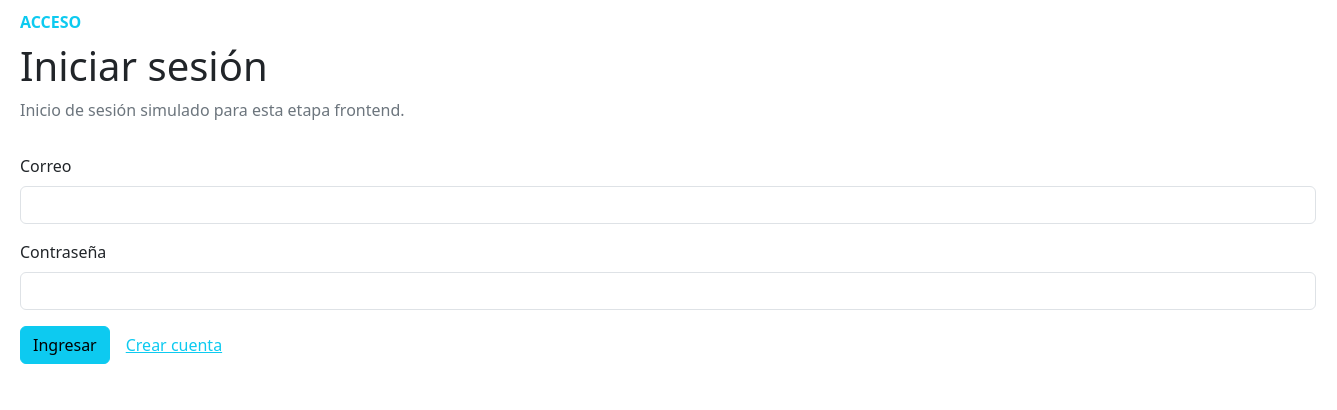
Test: inicio de sesión › rechaza un correo con formato inválido
Type "correo-invalido" into the field labelled "Correo" at (668, 205), box [20,186,1316,224]
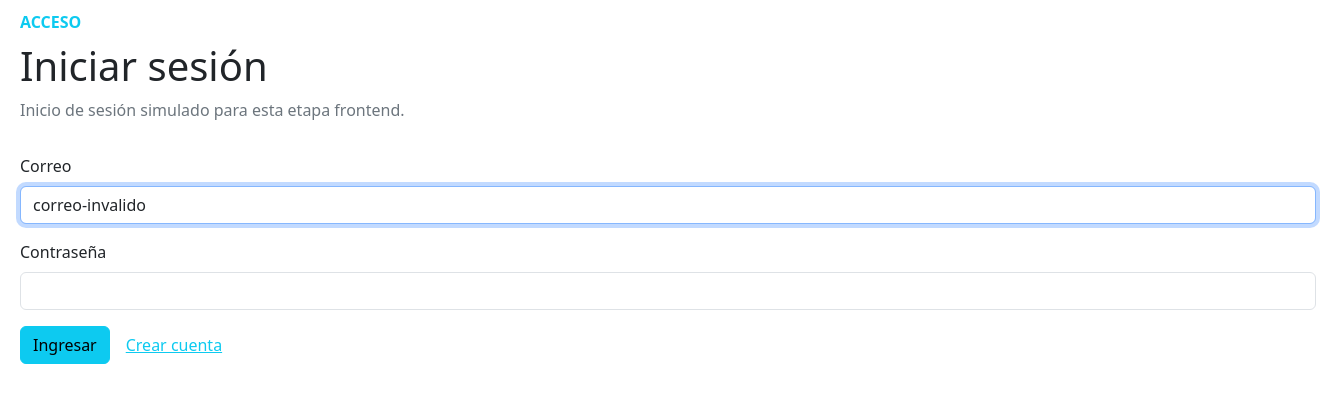
Type "123456" into the password field labelled "Contraseña" at (668, 291), box [20,272,1316,310]
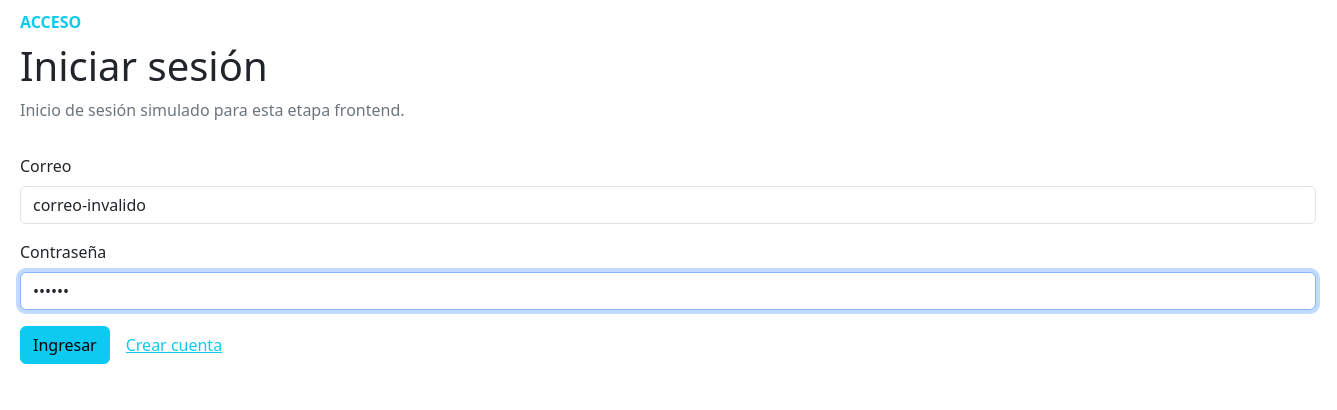
Click the button "Ingresar" at (65, 345), box [20,326,110,364]
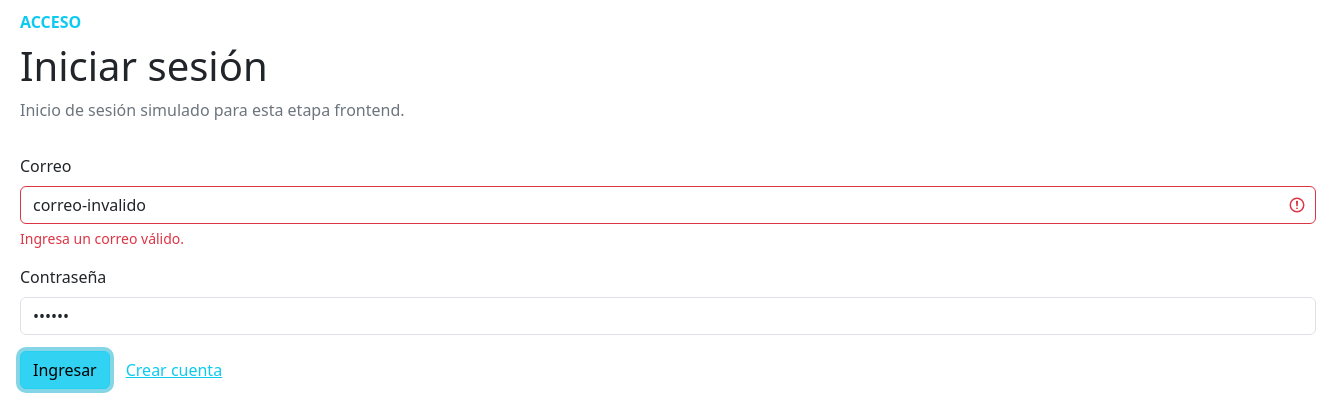
Result: the text "Ingresa un correo válido." is shown at [20,229,184,248]
